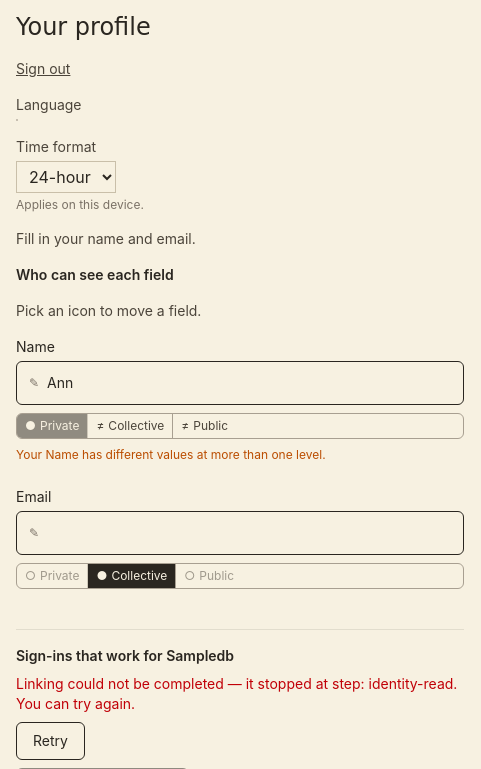
it: /profile v2 — #131 conflict resolution (browse-then-confirm) › AC4: tapping a DIFFERENT conflicting tier during preview switches the preview (no resolve)
Expected: the element with test id "profile-field-name" is shown, [16,337,464,463]
Click the button with test id "profile-vis-name-domain".
click(131, 426)  # box [88,414,173,438]
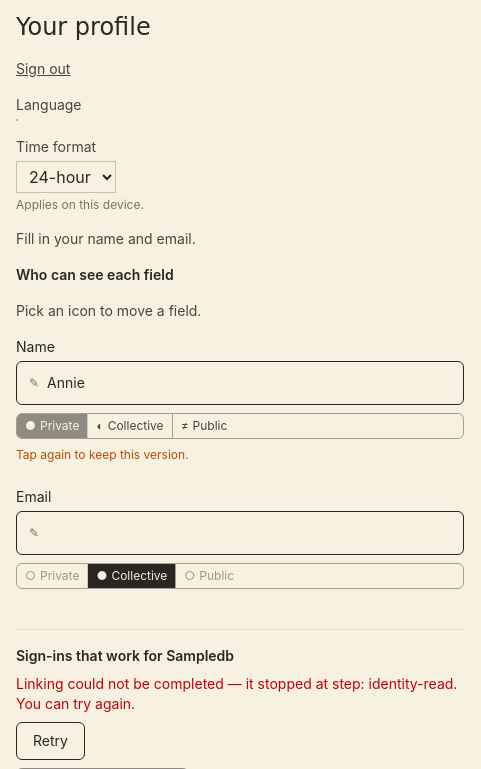
Result: the text "Annie" is shown at [47,374,85,391]
Result: the text "◐" is shown at [96,418,104,434]
Click the button with test id "profile-vis-name-public".
click(204, 426)  # box [173,414,235,438]
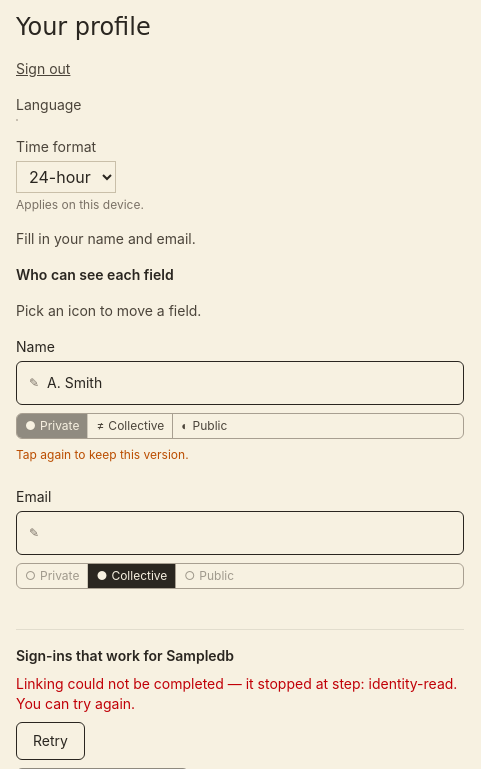
Result: the text "◐" is shown at [181,418,189,434]
Result: the text "A. Smith" is shown at [47,374,102,391]
Result: the text with test id "profile-vis-name-domain-preview" is gone
